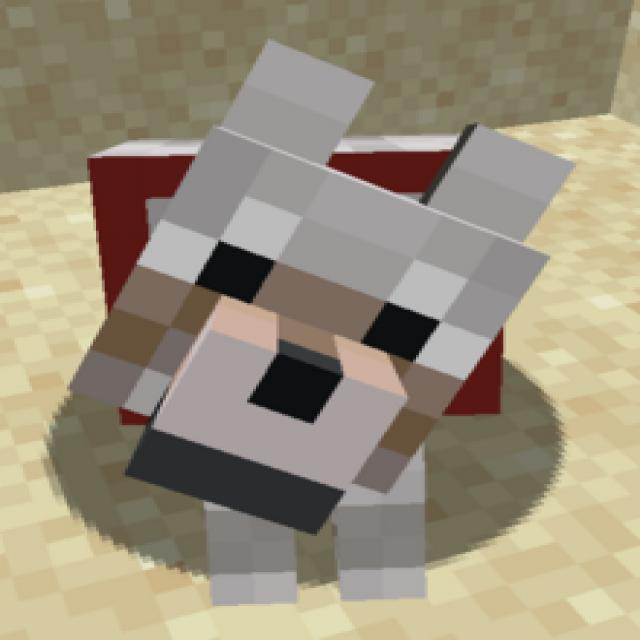Wolf: (65, 40, 578, 605)
